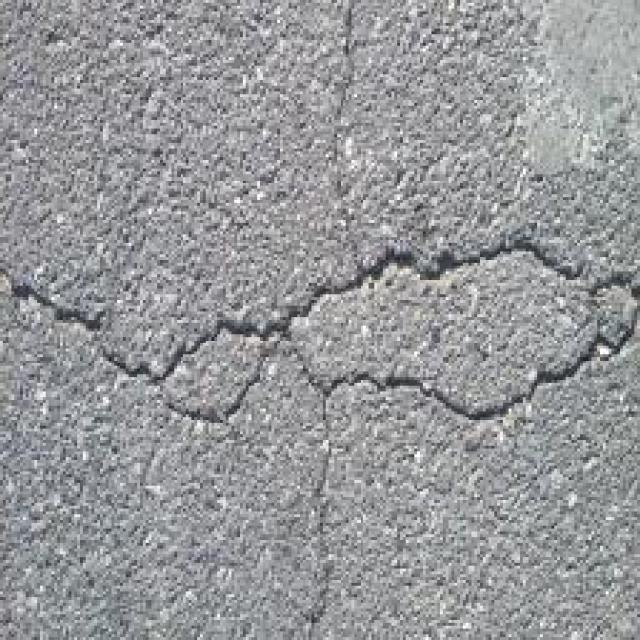SurfaceCrack: (0, 238, 640, 468)
